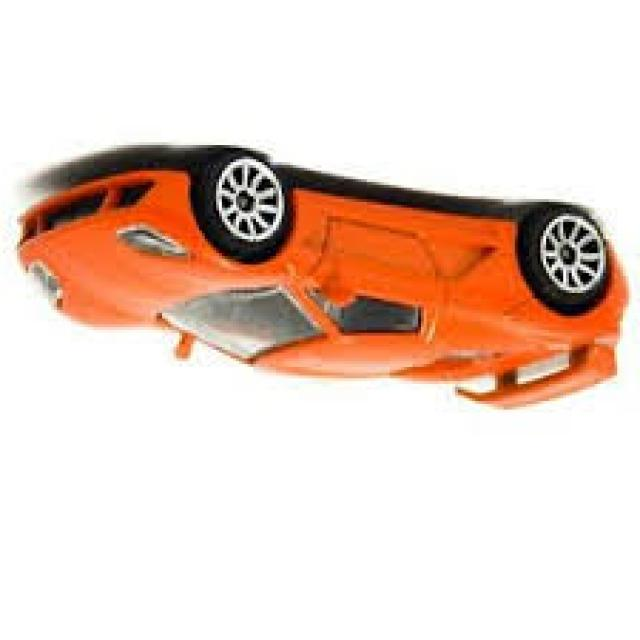Car: (23, 151, 629, 410)
